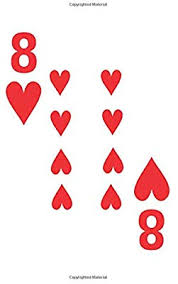eight of hearts: (5, 27, 172, 266)
